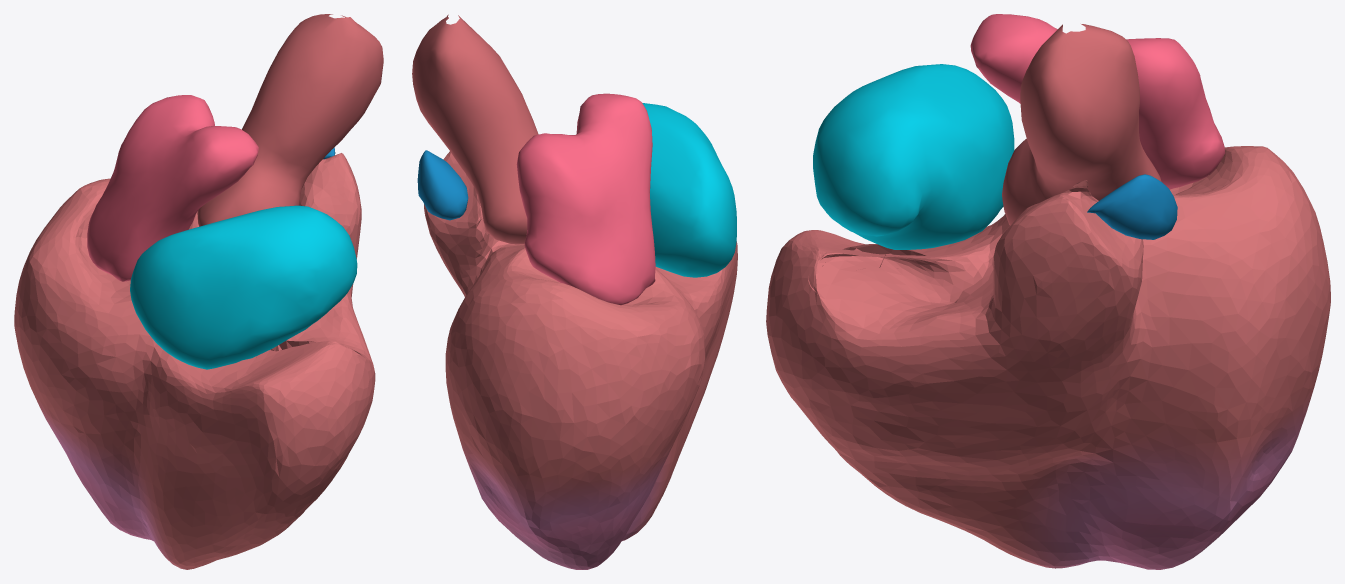
File: frame_45.glb
3 views of the same model, side by side, from view 1: azimuth 30°, elevation 25°; view 2: azimuth 150°, elevation 25°; view 3: azimuth 270°, elevation 25° (orthographic). The views are drawn at different scales.
Parts seen in each view (by area): view 1: Renderer Node; view 2: Renderer Node; view 3: Renderer Node.
Part boxes in pixels (left/top/right/bottom): Renderer Node: left=14, top=14, right=383, bottom=569; Renderer Node: left=412, top=14, right=737, bottom=569; Renderer Node: left=766, top=14, right=1330, bottom=569.
Size of the model in its own units: 102 by 159 by 126.
